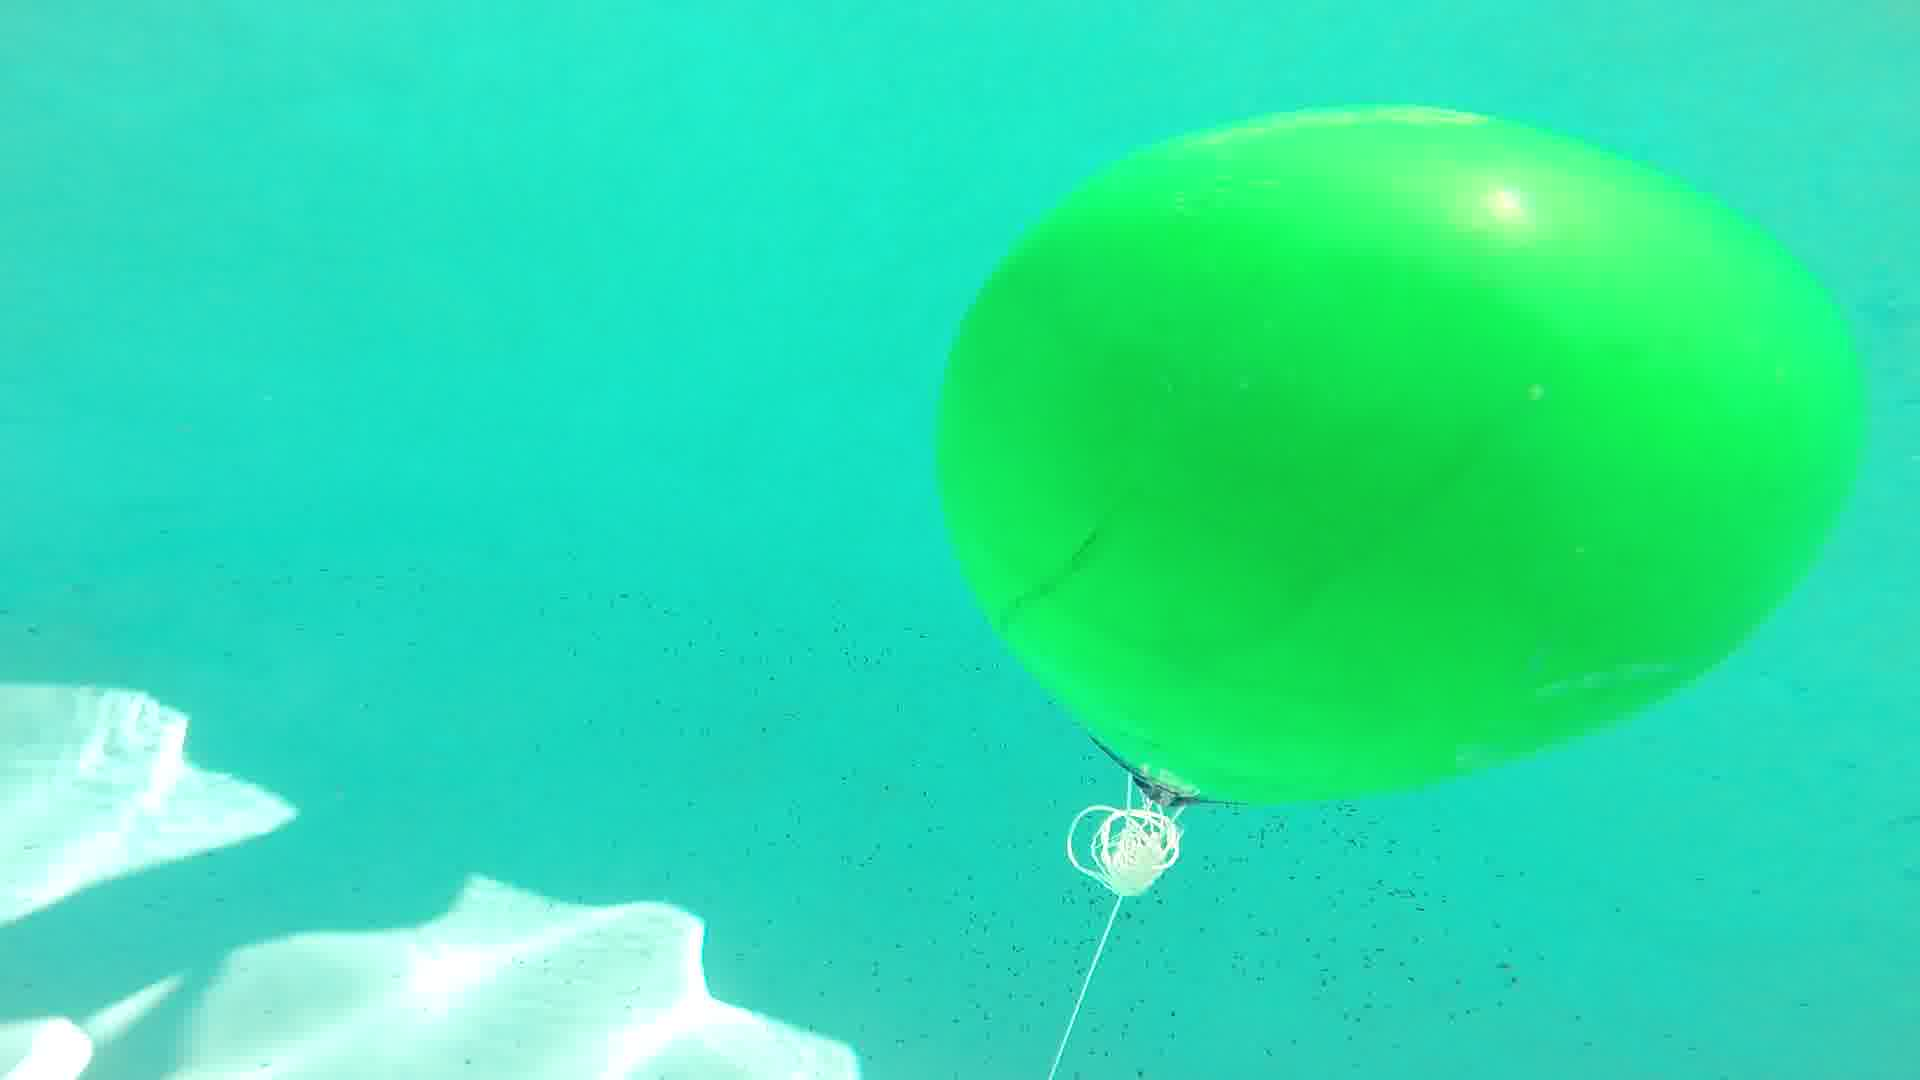yellow_buoy: (913, 105, 1869, 818)
